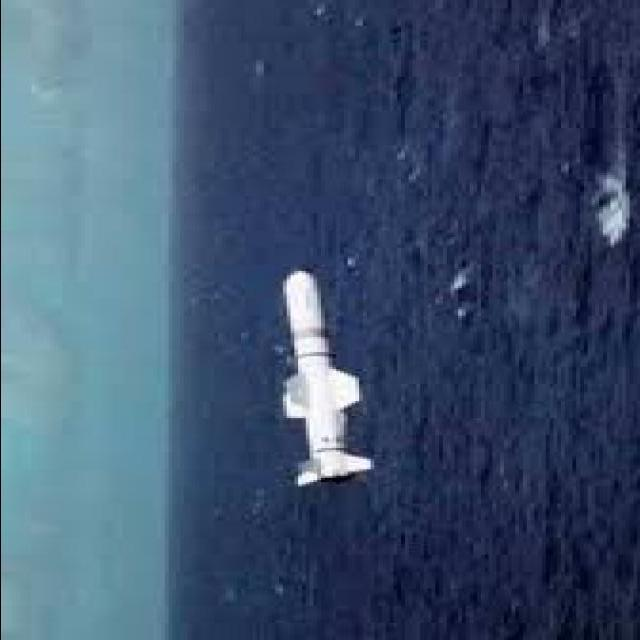missile: (269, 264, 376, 492)
